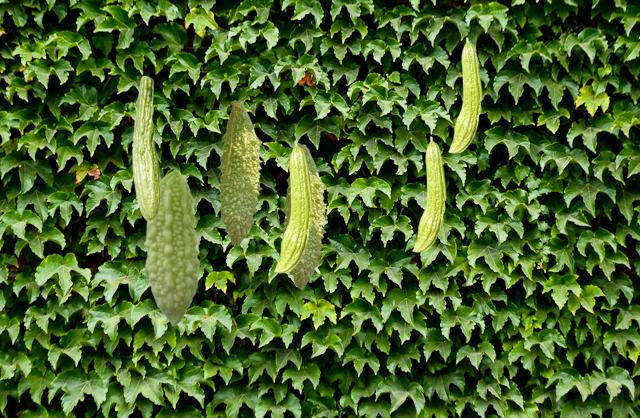ampalaya: (143, 169, 200, 327), (280, 142, 327, 289), (216, 99, 263, 246), (273, 139, 313, 273), (131, 75, 161, 223), (448, 36, 483, 153), (412, 135, 447, 252)
